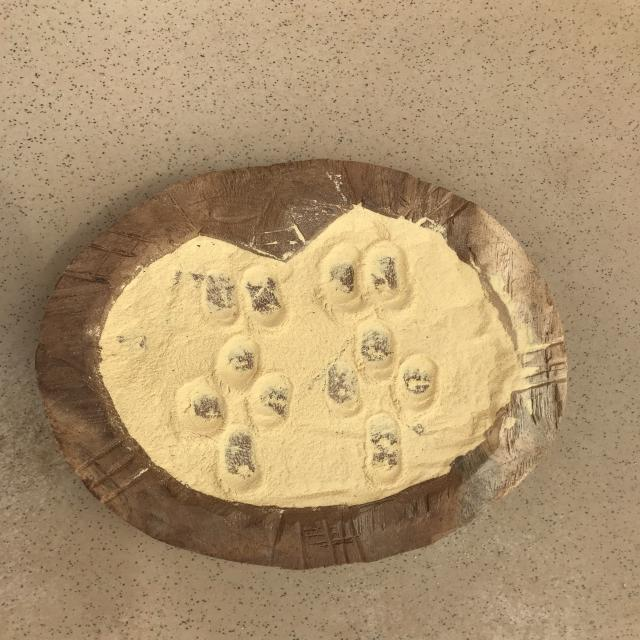double: (326, 356, 444, 418), (174, 376, 300, 434), (316, 243, 413, 317), (198, 264, 290, 334)
single: (214, 421, 270, 499), (360, 410, 412, 490), (354, 314, 402, 385), (215, 333, 266, 394)
